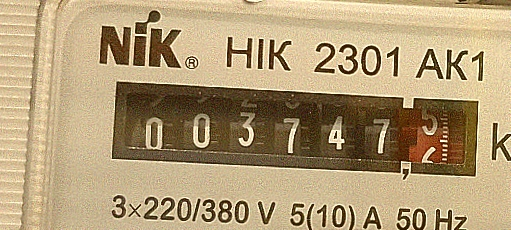0: (141, 114, 165, 150), (189, 109, 211, 148)
3: (235, 109, 255, 147)
4: (324, 111, 346, 152)
5: (418, 107, 439, 136)
6: (418, 142, 437, 164)
7: (368, 114, 392, 155), (279, 114, 300, 154)
screen: (101, 70, 493, 191)
